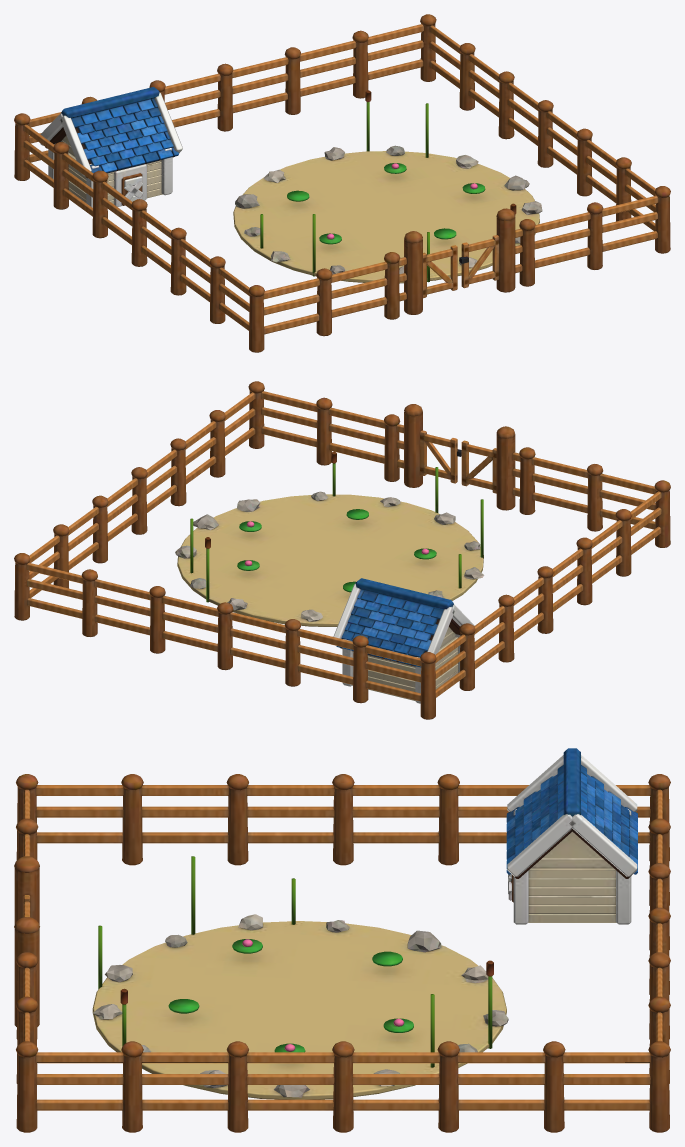
File: pekin_pond.glb
3 views of the same model, one above another, from view 1: azimuth 30°, elevation 25°; view 2: azimuth 150°, elevation 25°; view 3: azimuth 270°, elevation 25° (orthographic). The views are drawn at different scales.
Parts seen in each view (by area): view 1: pekin_pond, gate1, gate0; view 2: pekin_pond, gate1, gate0; view 3: pekin_pond.
Part boxes in pixels (left/top/right/bottom): pekin_pond: left=14, top=14, right=670, bottom=352; gate1: left=459, top=235, right=499, bottom=288; gate0: left=423, top=245, right=457, bottom=298; pekin_pond: left=14, top=381, right=670, bottom=719; gate1: left=420, top=430, right=461, bottom=483; gate0: left=461, top=440, right=496, bottom=493; pekin_pond: left=14, top=748, right=670, bottom=1132.
Bounding box in the file's own units: 3 × 0.615 × 3.01.
Materials: 1 (1 with a texture image).
